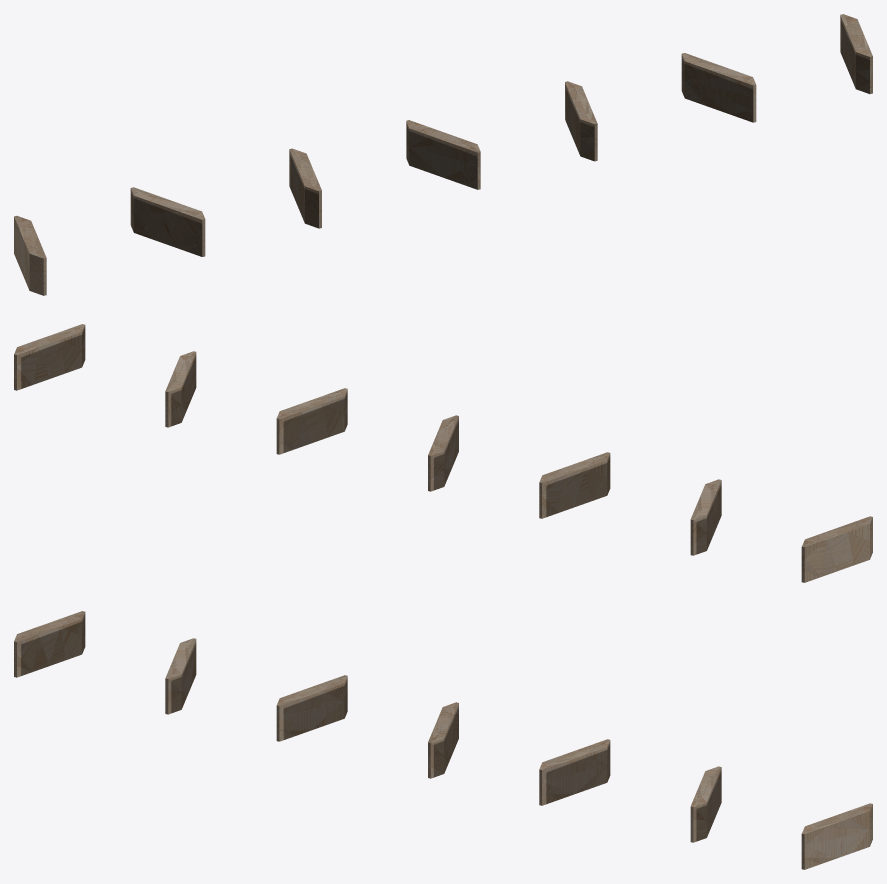
3 views of the same model, one above another, from view 1: azimuth 30°, elevation 25°; view 2: azimuth 150°, elevation 25°; view 3: azimuth 330°, elevation 25° (orthographic). The views are drawn at different scales.
Visible parts, largest first — view 1: p6; view 2: p6; view 3: p6.
Part boxes in pixels (bbox=[...]): p6: bbox=[14, 14, 872, 295]; p6: bbox=[14, 324, 872, 582]; p6: bbox=[14, 611, 872, 869].
Size of the model in its own units: 2300 by 95 by 234.
Materials: 1 (1 with a texture image).
